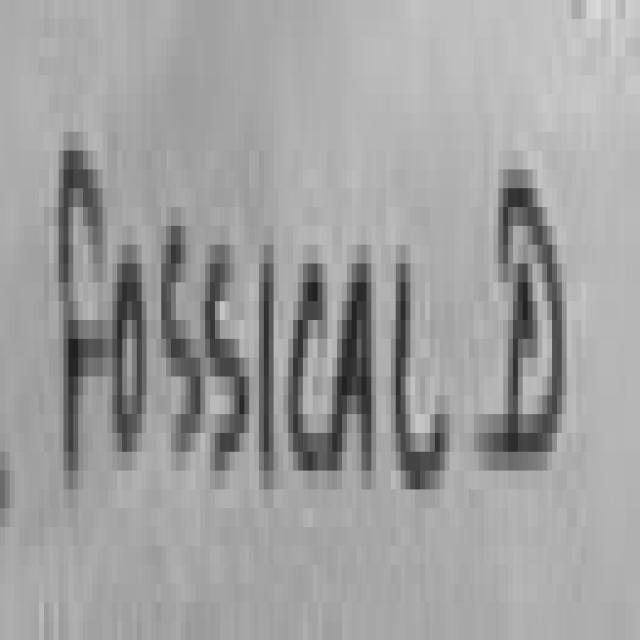A: (329, 253, 374, 477)
C: (289, 272, 330, 475)
D: (498, 175, 567, 471)
F: (59, 151, 107, 471)
I: (264, 264, 274, 461)
L: (397, 253, 446, 486)
O: (117, 264, 147, 452)
S: (204, 253, 250, 466), (162, 226, 204, 457)
